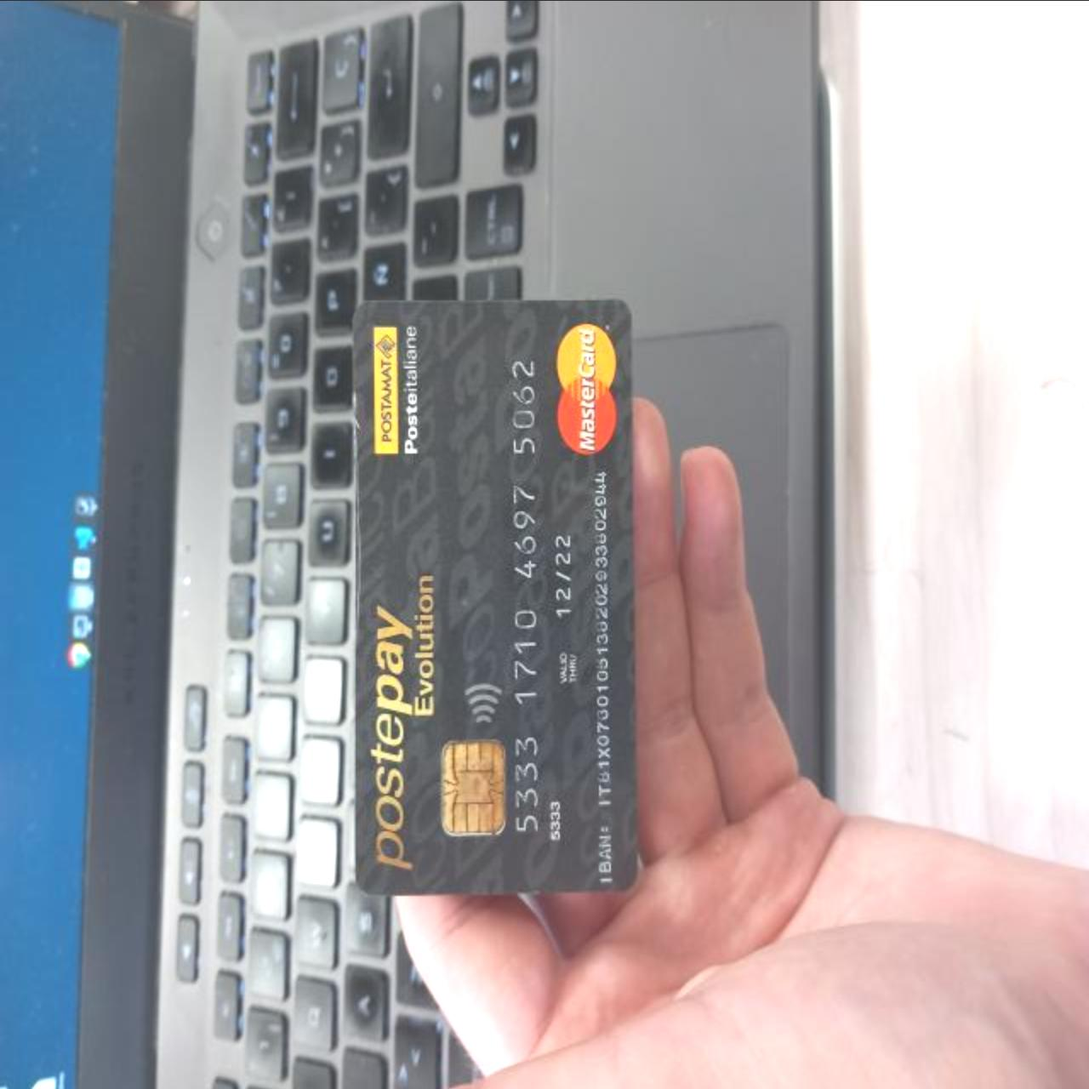credit_card: (353, 298, 637, 898)
